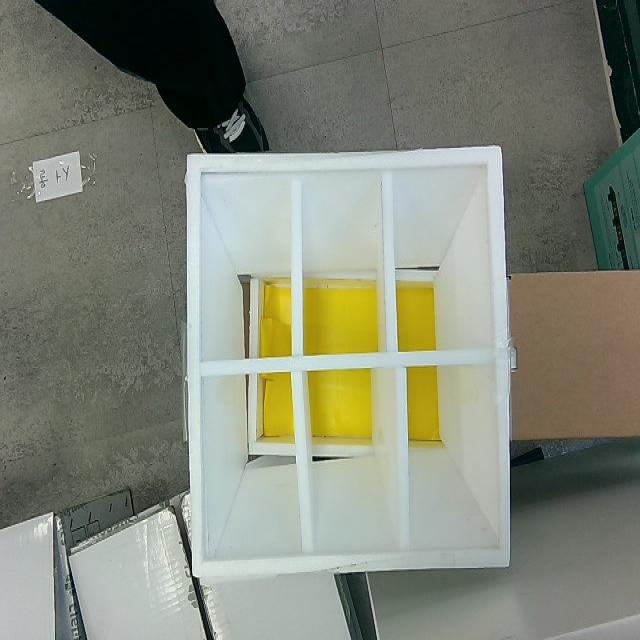box: (183, 144, 511, 580)
